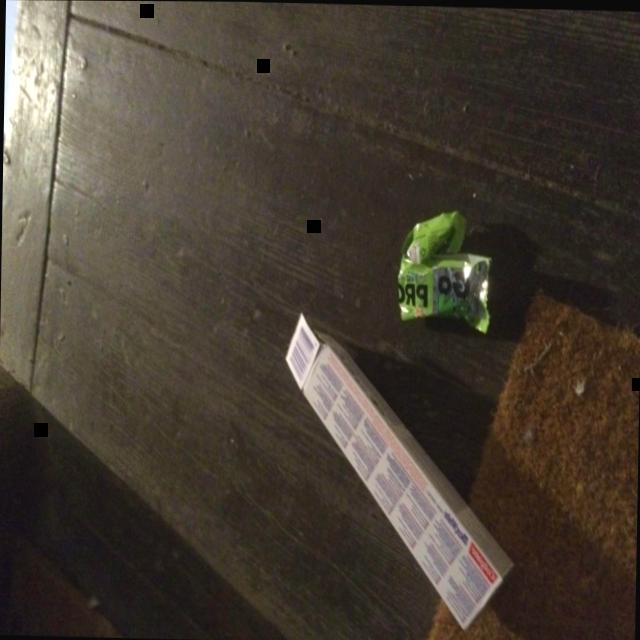Other carton: (284, 310, 515, 630)
Other plastic: (397, 208, 491, 333)
